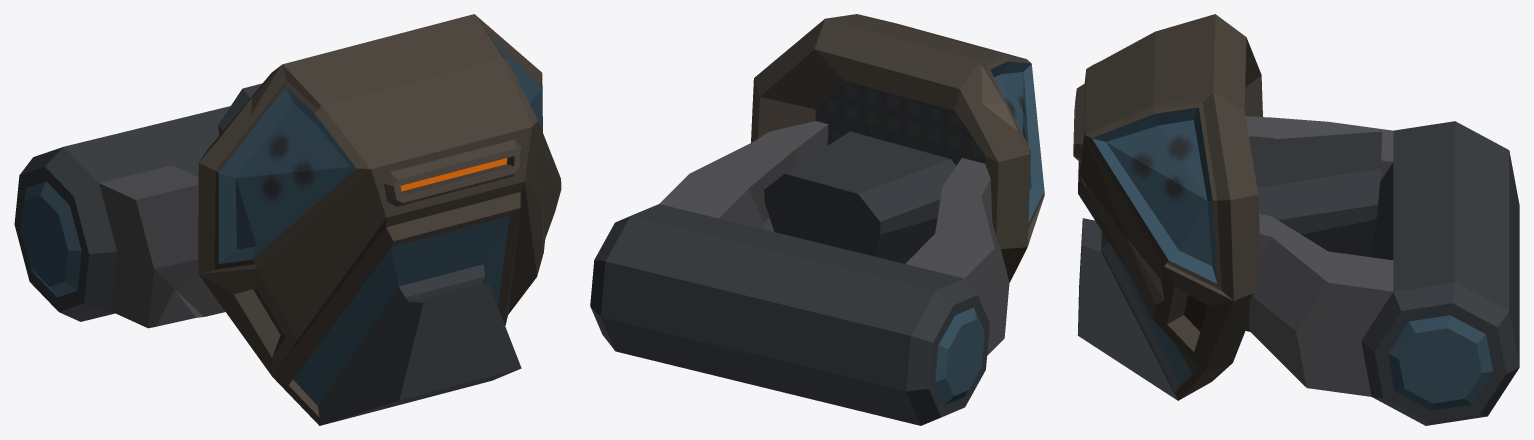
File: SM_Mech_Leg_01_Armor_Kneepad_05.fbx
3 views of the same model, side by side, from view 1: azimuth 30°, elevation 25°; view 2: azimuth 150°, elevation 25°; view 3: azimuth 270°, elevation 25° (orthographic). The views are drawn at different scales.
Parts seen in each view (by area): view 1: SM_Mech_Leg_01_Armor_Kneepad_05; view 2: SM_Mech_Leg_01_Armor_Kneepad_05; view 3: SM_Mech_Leg_01_Armor_Kneepad_05.
Boxes of the visible parts, x1,y1,x2,y2 form: SM_Mech_Leg_01_Armor_Kneepad_05: (14,14,561,425); SM_Mech_Leg_01_Armor_Kneepad_05: (590,14,1044,425); SM_Mech_Leg_01_Armor_Kneepad_05: (1073,14,1519,425).
Bounding box in the file's own units: 58.77 × 46.47 × 59.98.
